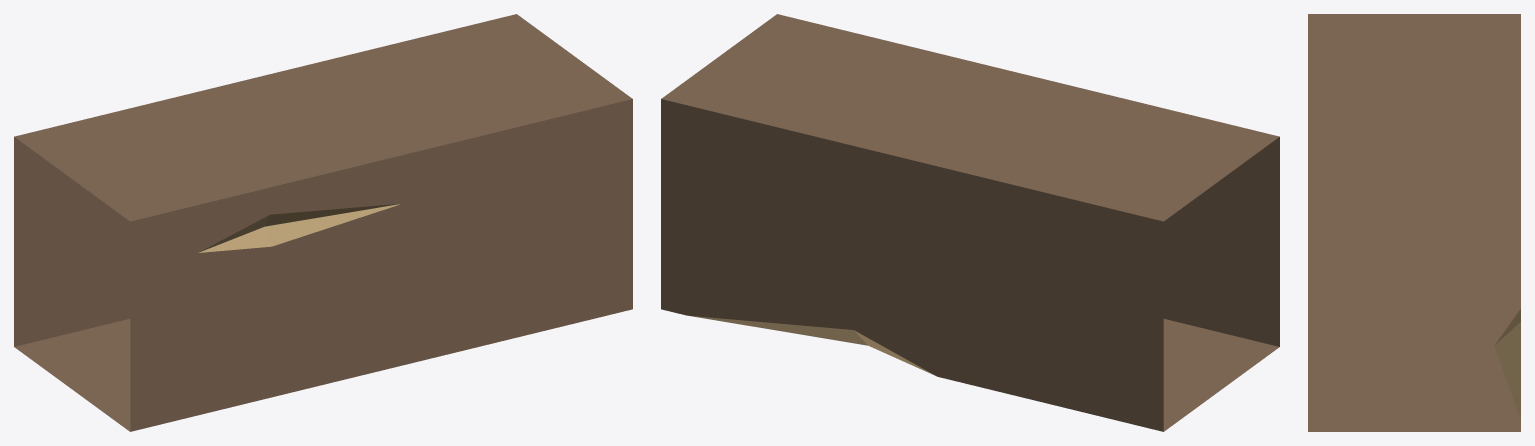
Rendered from Cave_Prop_Support_Ceiling_Beam_2.obj.
The picture shows the model from 3 angles, left to right: view 1: azimuth 30°, elevation 25°; view 2: azimuth 150°, elevation 25°; view 3: azimuth 270°, elevation 25°; orthographic projection. The views are drawn at different scales.
Parts seen in each view (by area): view 1: object1; view 2: object1; view 3: object1.
Part boxes in pixels (<box>): object1: <box>14,14,632,431</box>; object1: <box>661,14,1279,431</box>; object1: <box>1308,14,1520,431</box>.
Size of the model in its own units: 1 by 0.4 by 0.4.
